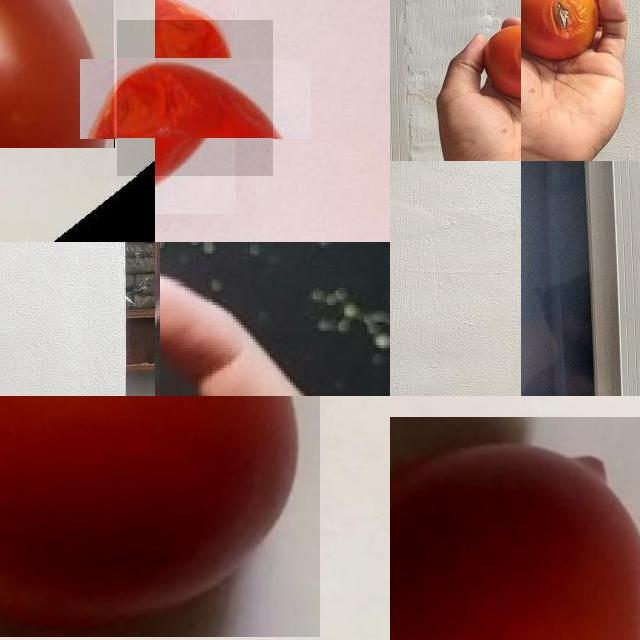Fresh Tomato: (0, 396, 319, 637), (390, 417, 640, 640)
Rotten Tomato: (118, 20, 274, 176)
